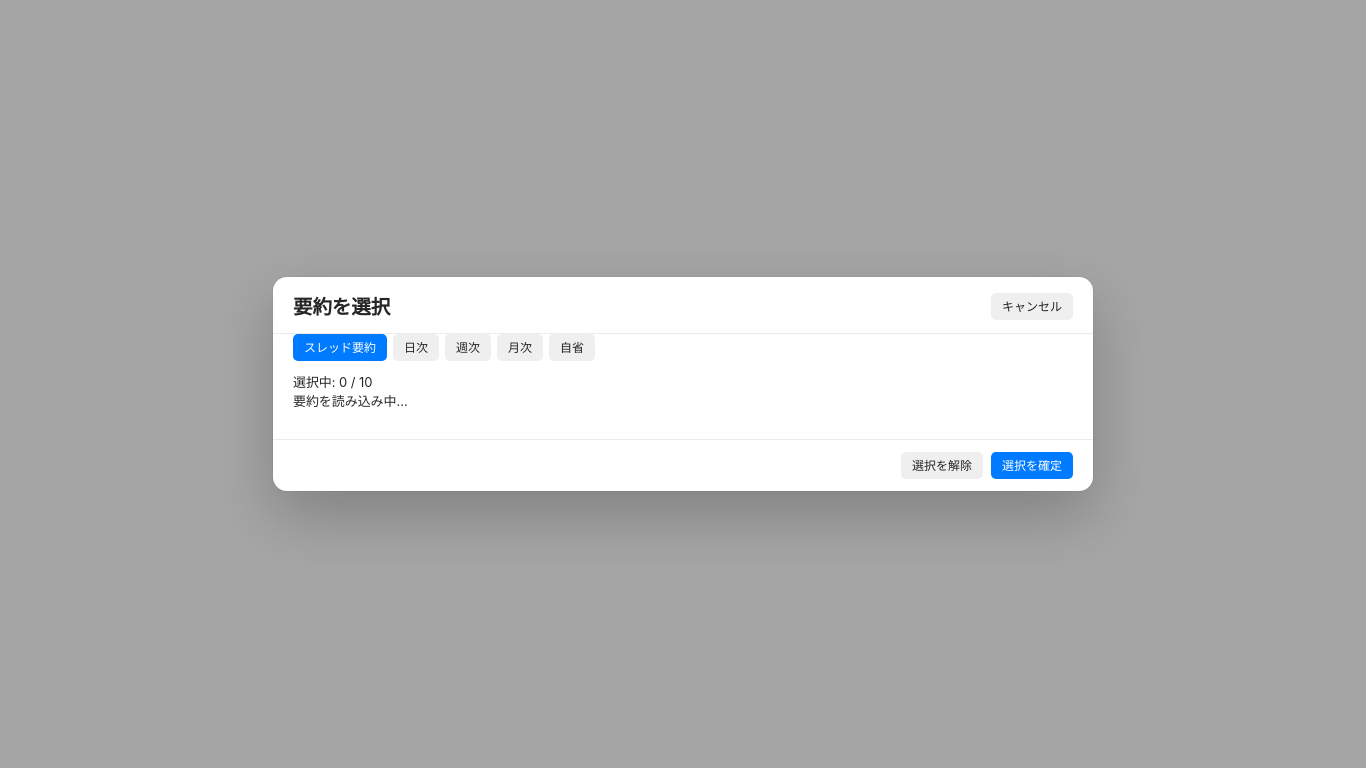
SummarySelectionModal › drops an old initial result after returning to the same summary tab
Click the tab "日次": (416, 348) [393,334,439,361]
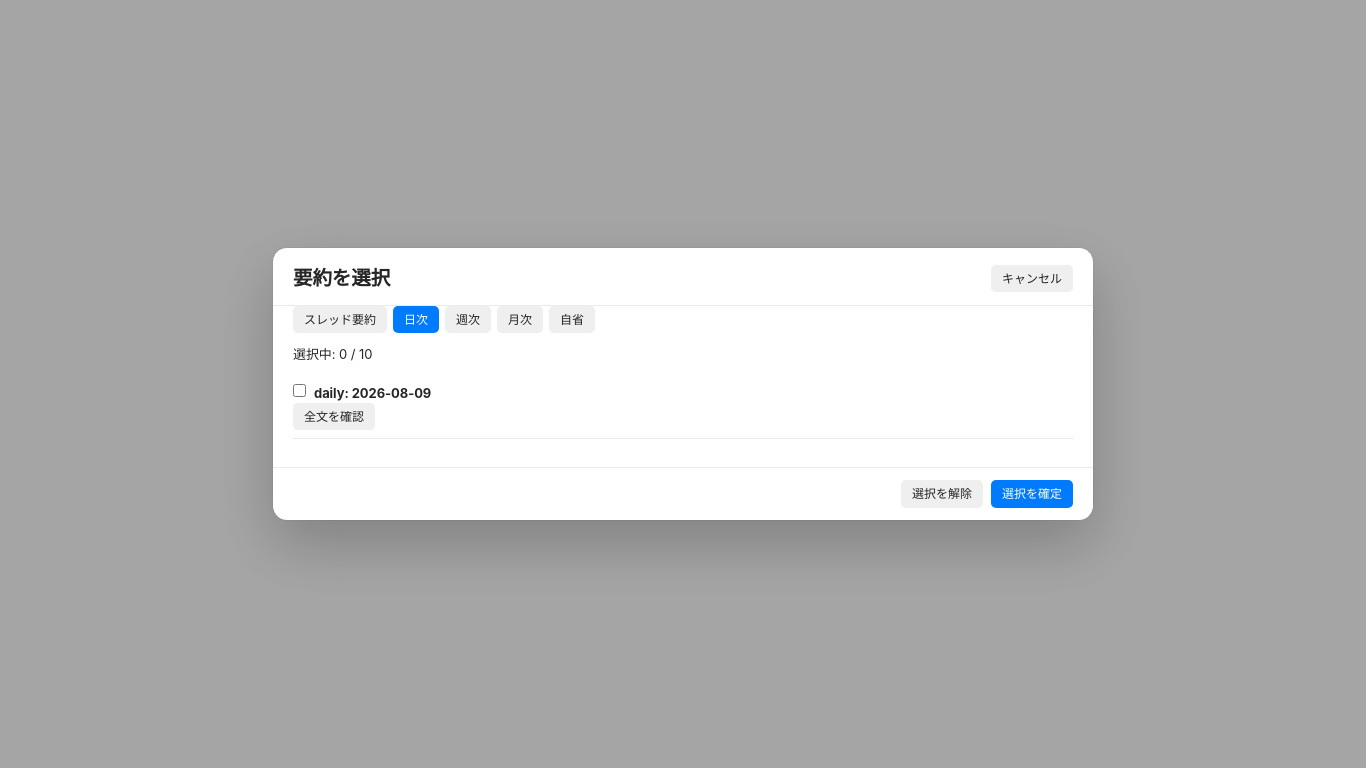
Now the text "daily: 2026-08-09" is shown, box [314,384,431,403]
Click the tab "スレッド要約": (340, 319) [293,306,387,333]
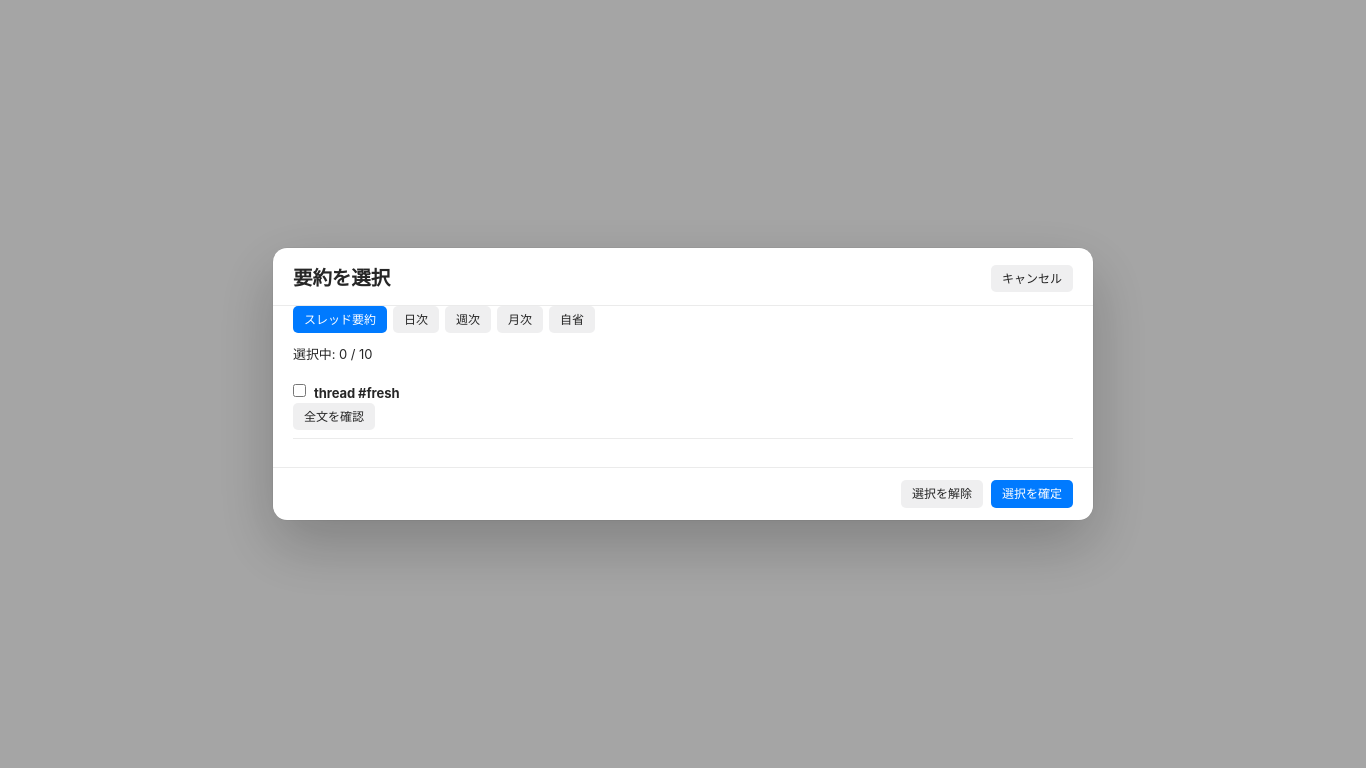
Now the text "thread #fresh" is shown, box [314,384,399,403]
